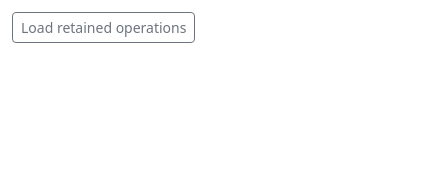
Test case: Release original-operation recovery after closing or reloading the form › loads the retained identity and checks status without creating another upload
Later steps or results of the test are not shown.
Click the button "Load retained operations": (104, 28) [12,12,196,43]
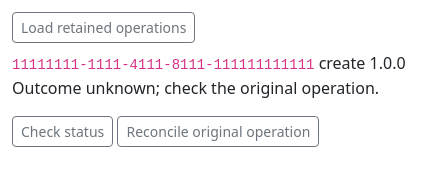
Result: the text "11111111-1111-4111-8111-111111111111" is shown at [12,57,314,73]
